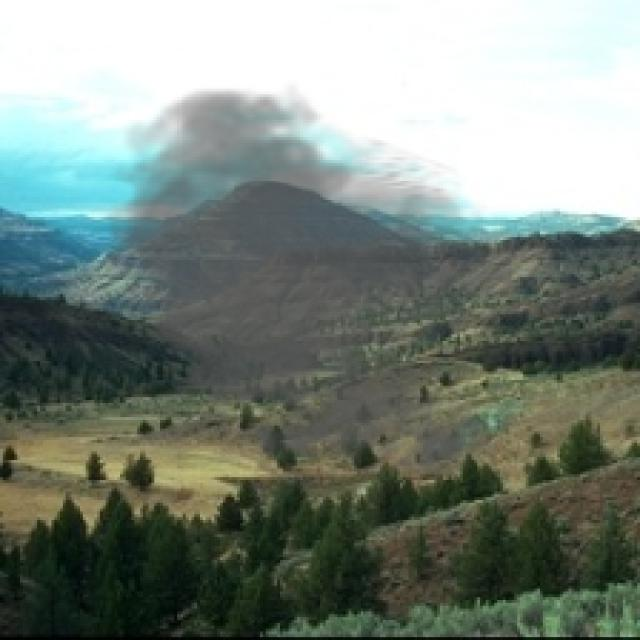smoke: (89, 80, 512, 486)
